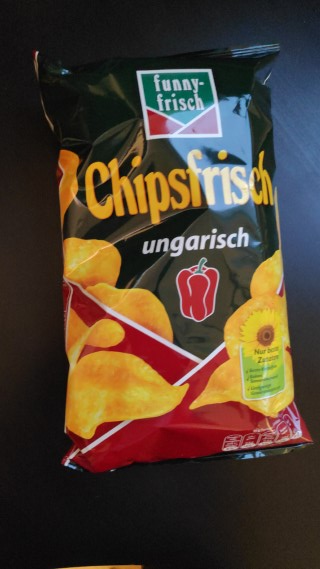chipsfrisch: (26, 41, 315, 478)
